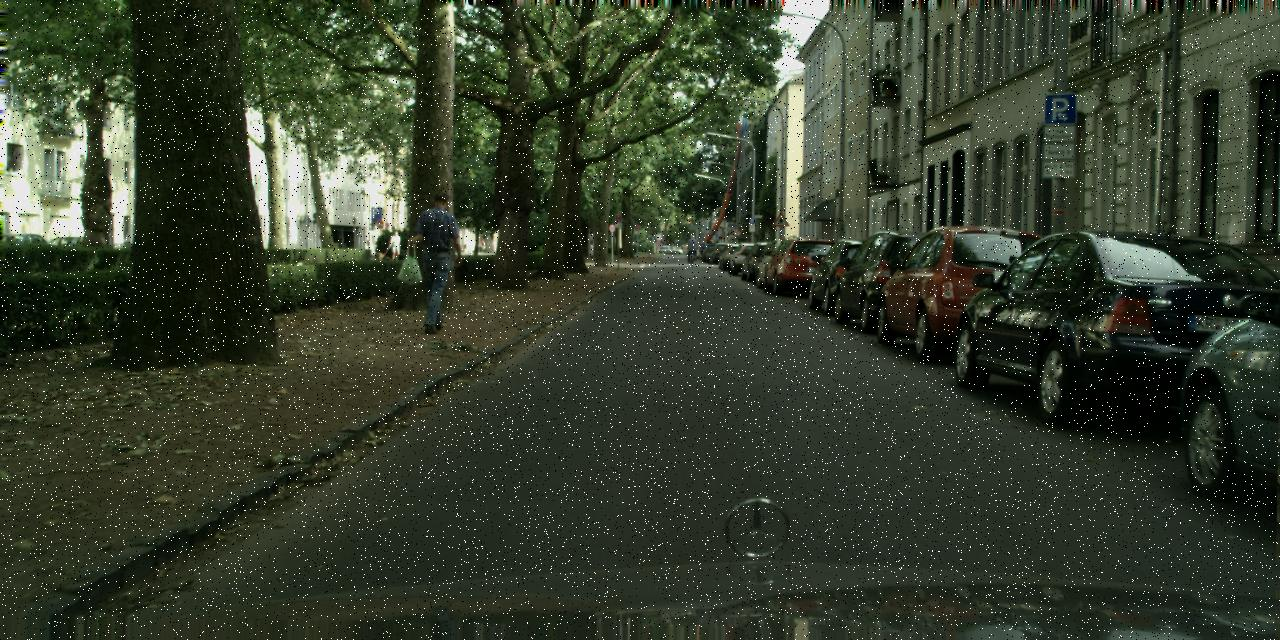ped: (410, 191, 468, 331), (388, 230, 401, 259), (686, 234, 697, 262), (480, 240, 484, 249)
